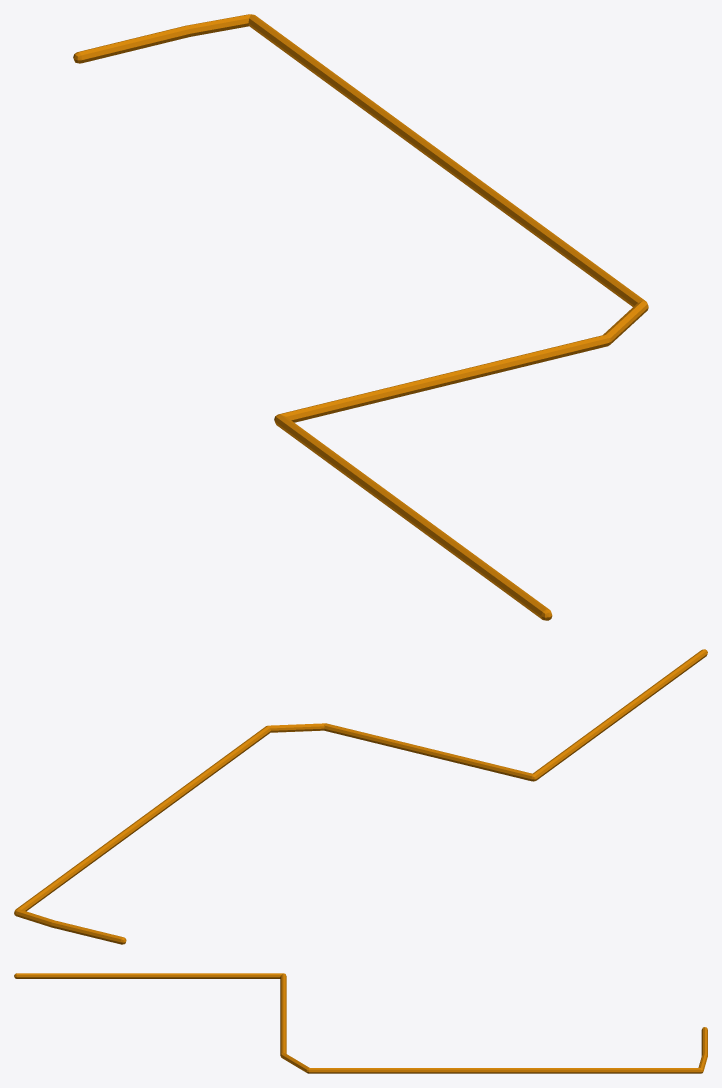
3 views of the same model, one above another, from view 1: azimuth 30°, elevation 25°; view 2: azimuth 150°, elevation 25°; view 3: azimuth 270°, elevation 25° (orthographic). The views are drawn at different scales.
Bounding box in the file's own units: 735 × 20 × 2215.
